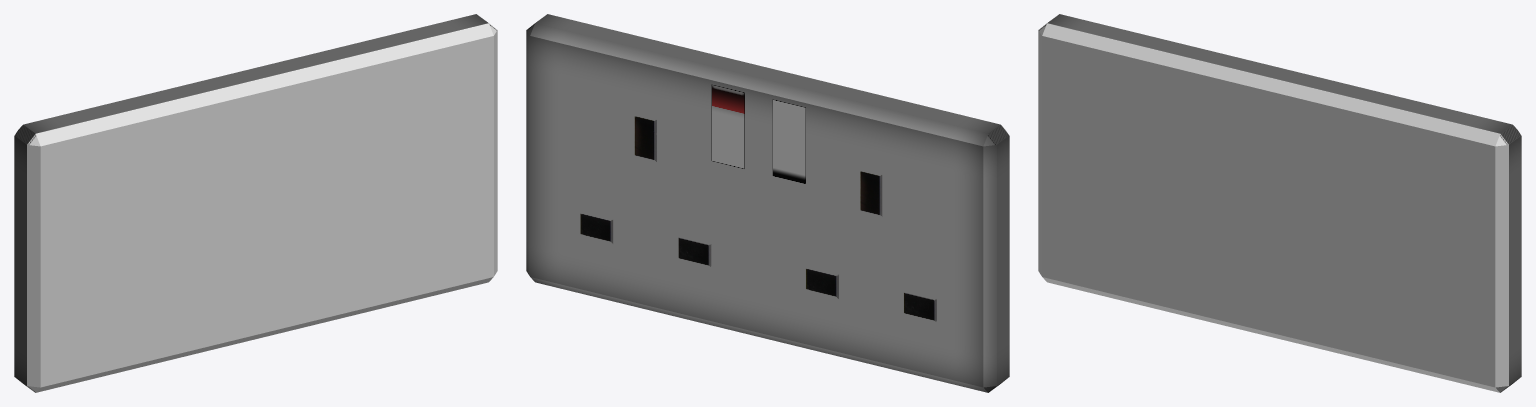
File: plugSocket.FBX
3 renders of one model, left to right at view 1: azimuth 30°, elevation 25°; view 2: azimuth 150°, elevation 25°; view 3: azimuth 330°, elevation 25°, orthographic.
Visible parts, largest first — view 1: Box001; view 2: Box001; view 3: Box001.
Boxes of the visible parts, x1,y1,x2,y2 form: Box001: [14, 14, 497, 392]; Box001: [526, 14, 1009, 392]; Box001: [1038, 14, 1521, 392].
Bounding box in the file's own units: 0.2703 × 0.1423 × 0.0224.
1 material, 1 textured.
